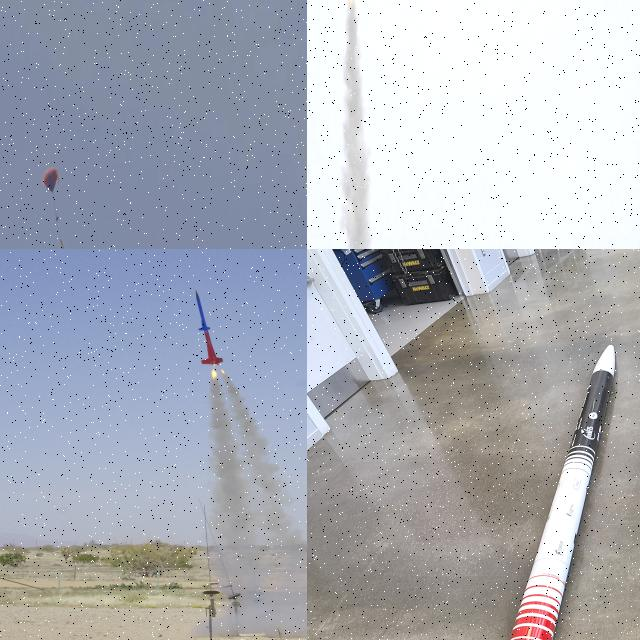Rocket: (509, 344, 615, 640), (195, 289, 224, 367)
